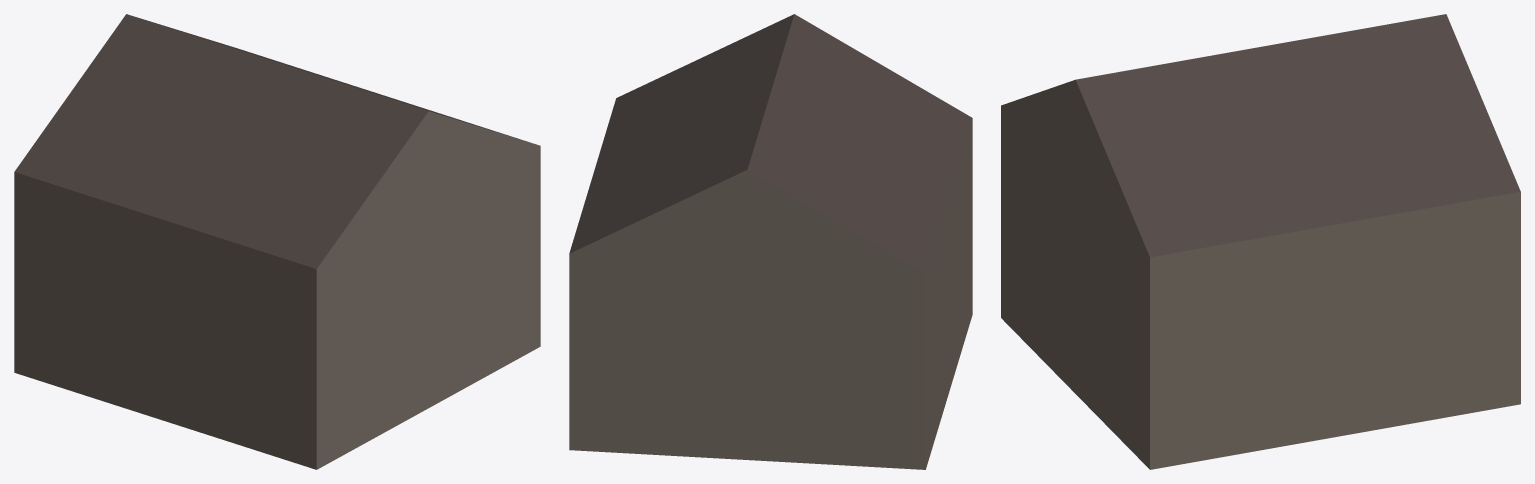
The picture shows the model from 3 angles, left to right: view 1: azimuth 30°, elevation 25°; view 2: azimuth 150°, elevation 25°; view 3: azimuth 270°, elevation 25°; orthographic projection. The views are drawn at different scales.
Visible parts, largest first — view 1: HP-w859082456; view 2: HP-w859082456; view 3: HP-w859082456.
Part boxes in pixels (<box>): HP-w859082456: <box>14,14,540,469</box>; HP-w859082456: <box>569,14,972,469</box>; HP-w859082456: <box>1001,14,1520,469</box>.
Size of the model in its own units: 19.77 by 13.31 by 19.96.
